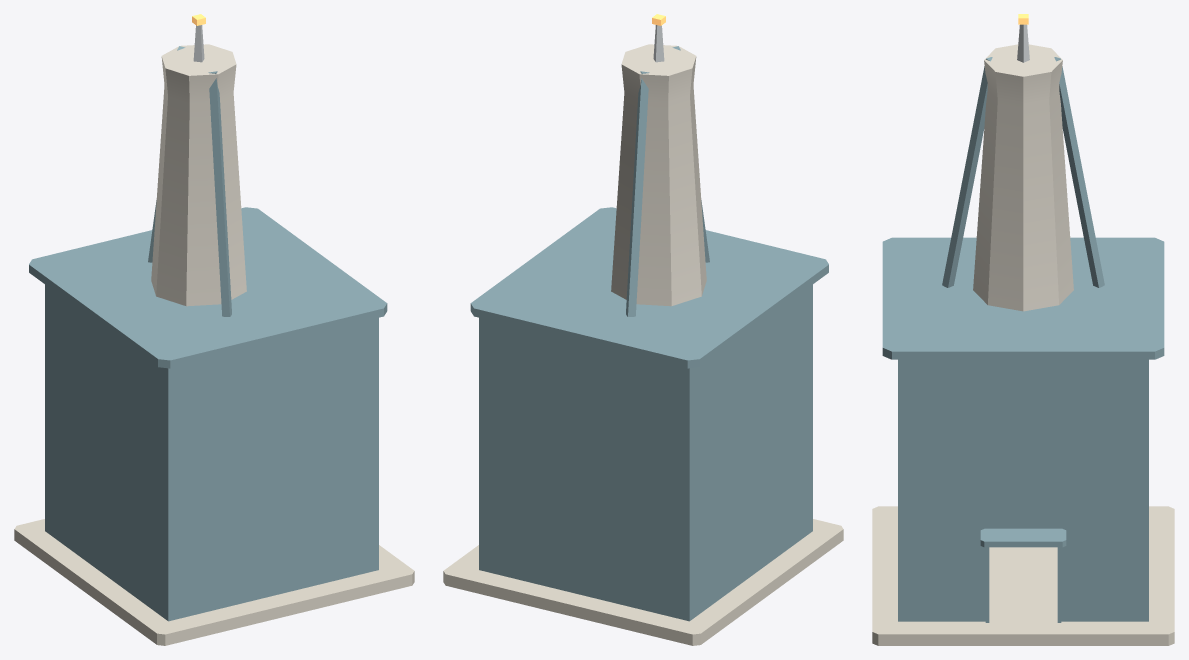
Rendered from Frontier_RelayTower_v4_ShadowProxy.glb.
3 renders of one model, left to right at view 1: azimuth 30°, elevation 25°; view 2: azimuth 150°, elevation 25°; view 3: azimuth 270°, elevation 25°, orthographic.
Visible parts, largest first — view 1: Frontier_RelayTower_v4_ShadowProxy / Structure, Frontier_RelayTower_v4_ShadowProxy / Equipment deck, Frontier_RelayTower_v4_ShadowProxy / Tower, Frontier_RelayTower_v4_ShadowProxy / Foundation; view 2: Frontier_RelayTower_v4_ShadowProxy / Structure, Frontier_RelayTower_v4_ShadowProxy / Equipment deck, Frontier_RelayTower_v4_ShadowProxy / Tower, Frontier_RelayTower_v4_ShadowProxy / Foundation; view 3: Frontier_RelayTower_v4_ShadowProxy / Structure, Frontier_RelayTower_v4_ShadowProxy / Tower, Frontier_RelayTower_v4_ShadowProxy / Equipment deck, Frontier_RelayTower_v4_ShadowProxy / Foundation, Frontier_RelayTower_v4_ShadowProxy / Entrance modules, Frontier_RelayTower_v4_ShadowProxy / Broadcast hardware.
Part boxes in pixels (bbox=[...]): Frontier_RelayTower_v4_ShadowProxy / Structure: bbox=[45, 284, 378, 621]; Frontier_RelayTower_v4_ShadowProxy / Equipment deck: bbox=[29, 207, 387, 368]; Frontier_RelayTower_v4_ShadowProxy / Tower: bbox=[148, 44, 246, 316]; Frontier_RelayTower_v4_ShadowProxy / Foundation: bbox=[14, 519, 414, 645]; Frontier_RelayTower_v4_ShadowProxy / Structure: bbox=[479, 284, 812, 621]; Frontier_RelayTower_v4_ShadowProxy / Equipment deck: bbox=[470, 207, 828, 368]; Frontier_RelayTower_v4_ShadowProxy / Tower: bbox=[611, 44, 709, 316]; Frontier_RelayTower_v4_ShadowProxy / Foundation: bbox=[443, 519, 843, 645]; Frontier_RelayTower_v4_ShadowProxy / Structure: bbox=[898, 359, 1148, 621]; Frontier_RelayTower_v4_ShadowProxy / Tower: bbox=[942, 44, 1104, 311]; Frontier_RelayTower_v4_ShadowProxy / Equipment deck: bbox=[882, 237, 1164, 359]; Frontier_RelayTower_v4_ShadowProxy / Foundation: bbox=[872, 506, 1174, 645]; Frontier_RelayTower_v4_ShadowProxy / Entrance modules: bbox=[980, 528, 1066, 639]; Frontier_RelayTower_v4_ShadowProxy / Broadcast hardware: bbox=[1017, 14, 1029, 62].
Bounding box in the file's own units: 8 × 16.28 × 8.
